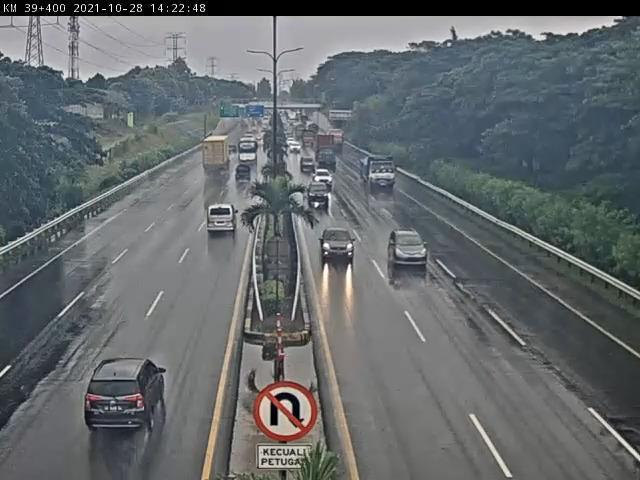bus: (238, 141, 261, 169)
truck: (357, 153, 398, 191), (199, 137, 232, 177), (315, 135, 340, 172)
